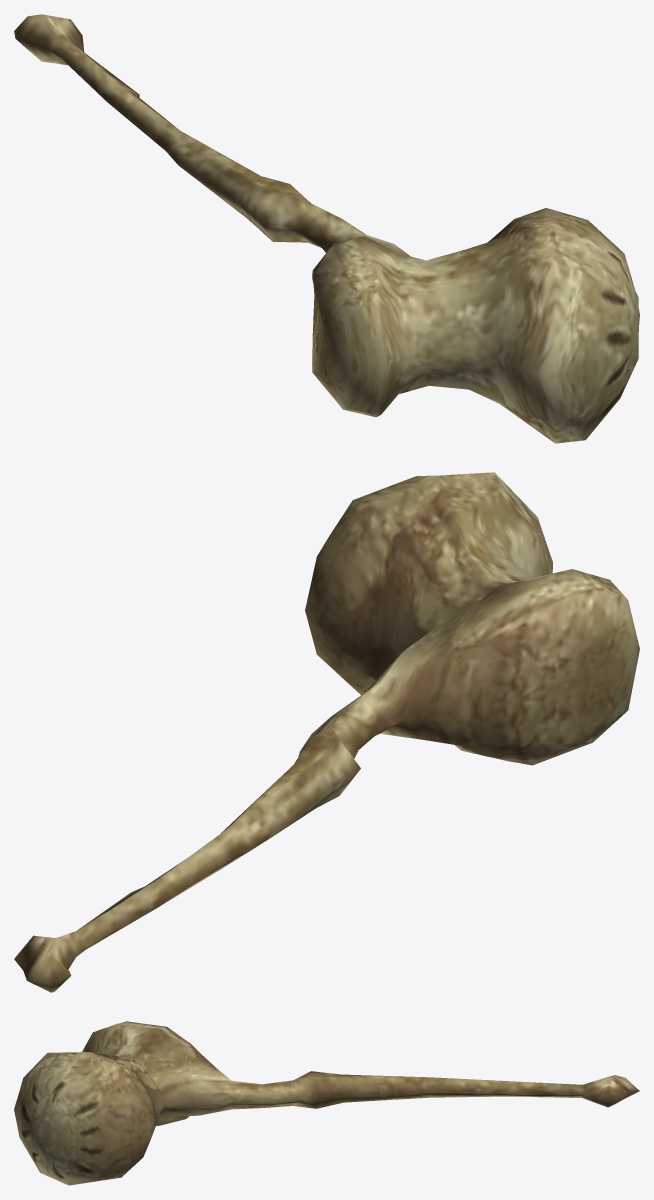
Rendered from we047_amh.OBJ.
3 views of the same model, one above another, from view 1: azimuth 30°, elevation 25°; view 2: azimuth 150°, elevation 25°; view 3: azimuth 270°, elevation 25° (orthographic). The views are drawn at different scales.
Parts seen in each view (by area): view 1: mesh_0; view 2: mesh_0; view 3: mesh_0.
Part boxes in pixels (bbox=[...]): mesh_0: bbox=[14, 14, 639, 443]; mesh_0: bbox=[14, 472, 639, 992]; mesh_0: bbox=[14, 1021, 639, 1185].
Size of the model in its own units: 58.93 by 41.95 by 184.
1 material, 1 textured.
